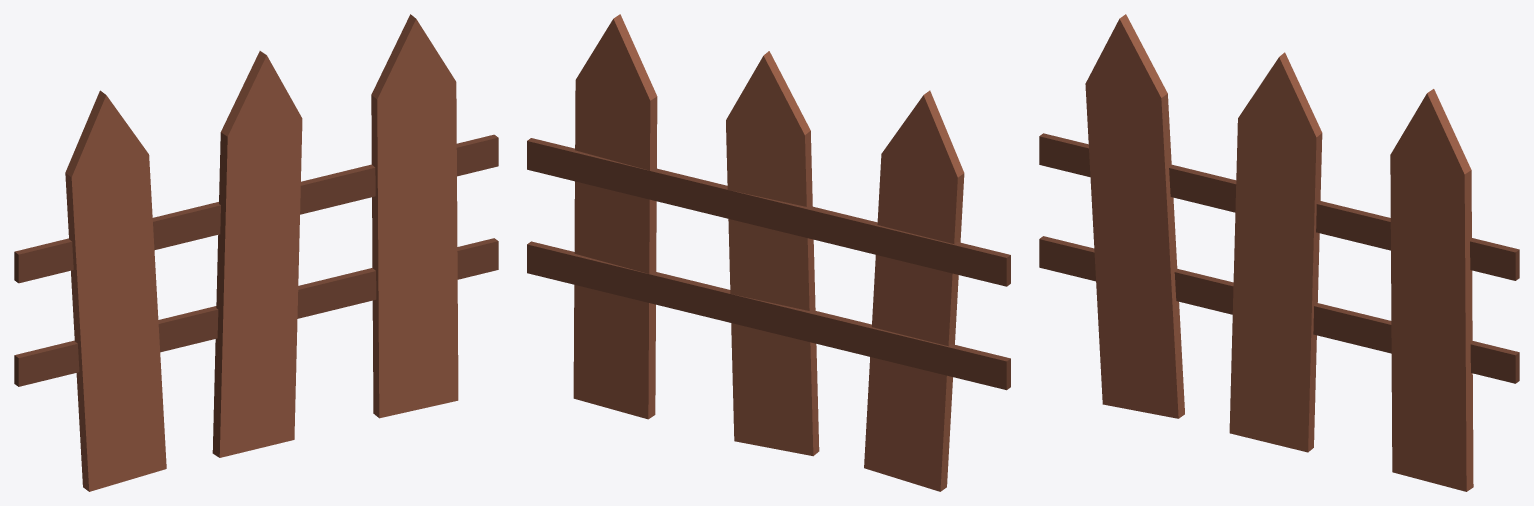
The model's file is fence.fbx.
3 renders of one model, left to right at view 1: azimuth 30°, elevation 25°; view 2: azimuth 150°, elevation 25°; view 3: azimuth 330°, elevation 25°, orthographic.
Visible parts, largest first — view 1: Cube.004; view 2: Cube.004; view 3: Cube.004.
Part boxes in pixels (x1=…): Cube.004: x1=14, y1=14, x2=498, y2=491; Cube.004: x1=527, y1=14, x2=1010, y2=491; Cube.004: x1=1039, y1=14, x2=1519, y2=491.
Bounding box in the file's own units: 100 × 78.36 × 3.19.
